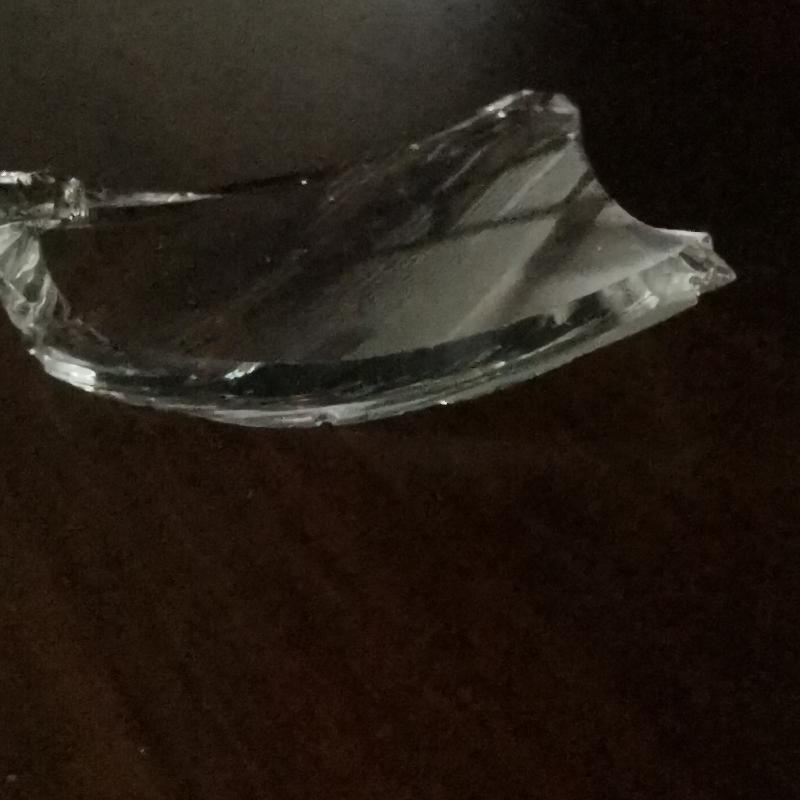glass: (7, 85, 740, 434)
